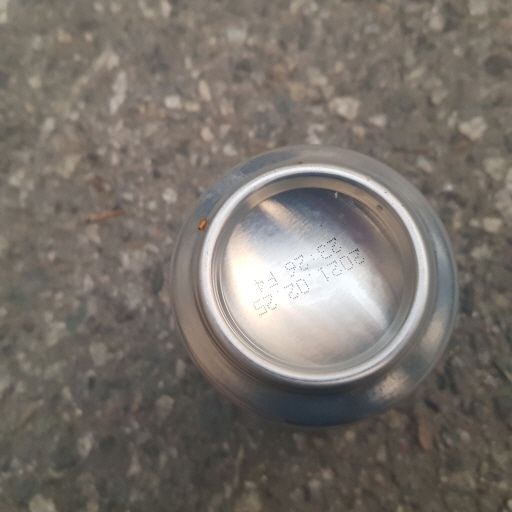Metal_0: (160, 142, 462, 419)
